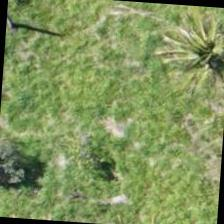Kelapa_Sawit: (145, 2, 223, 84)
